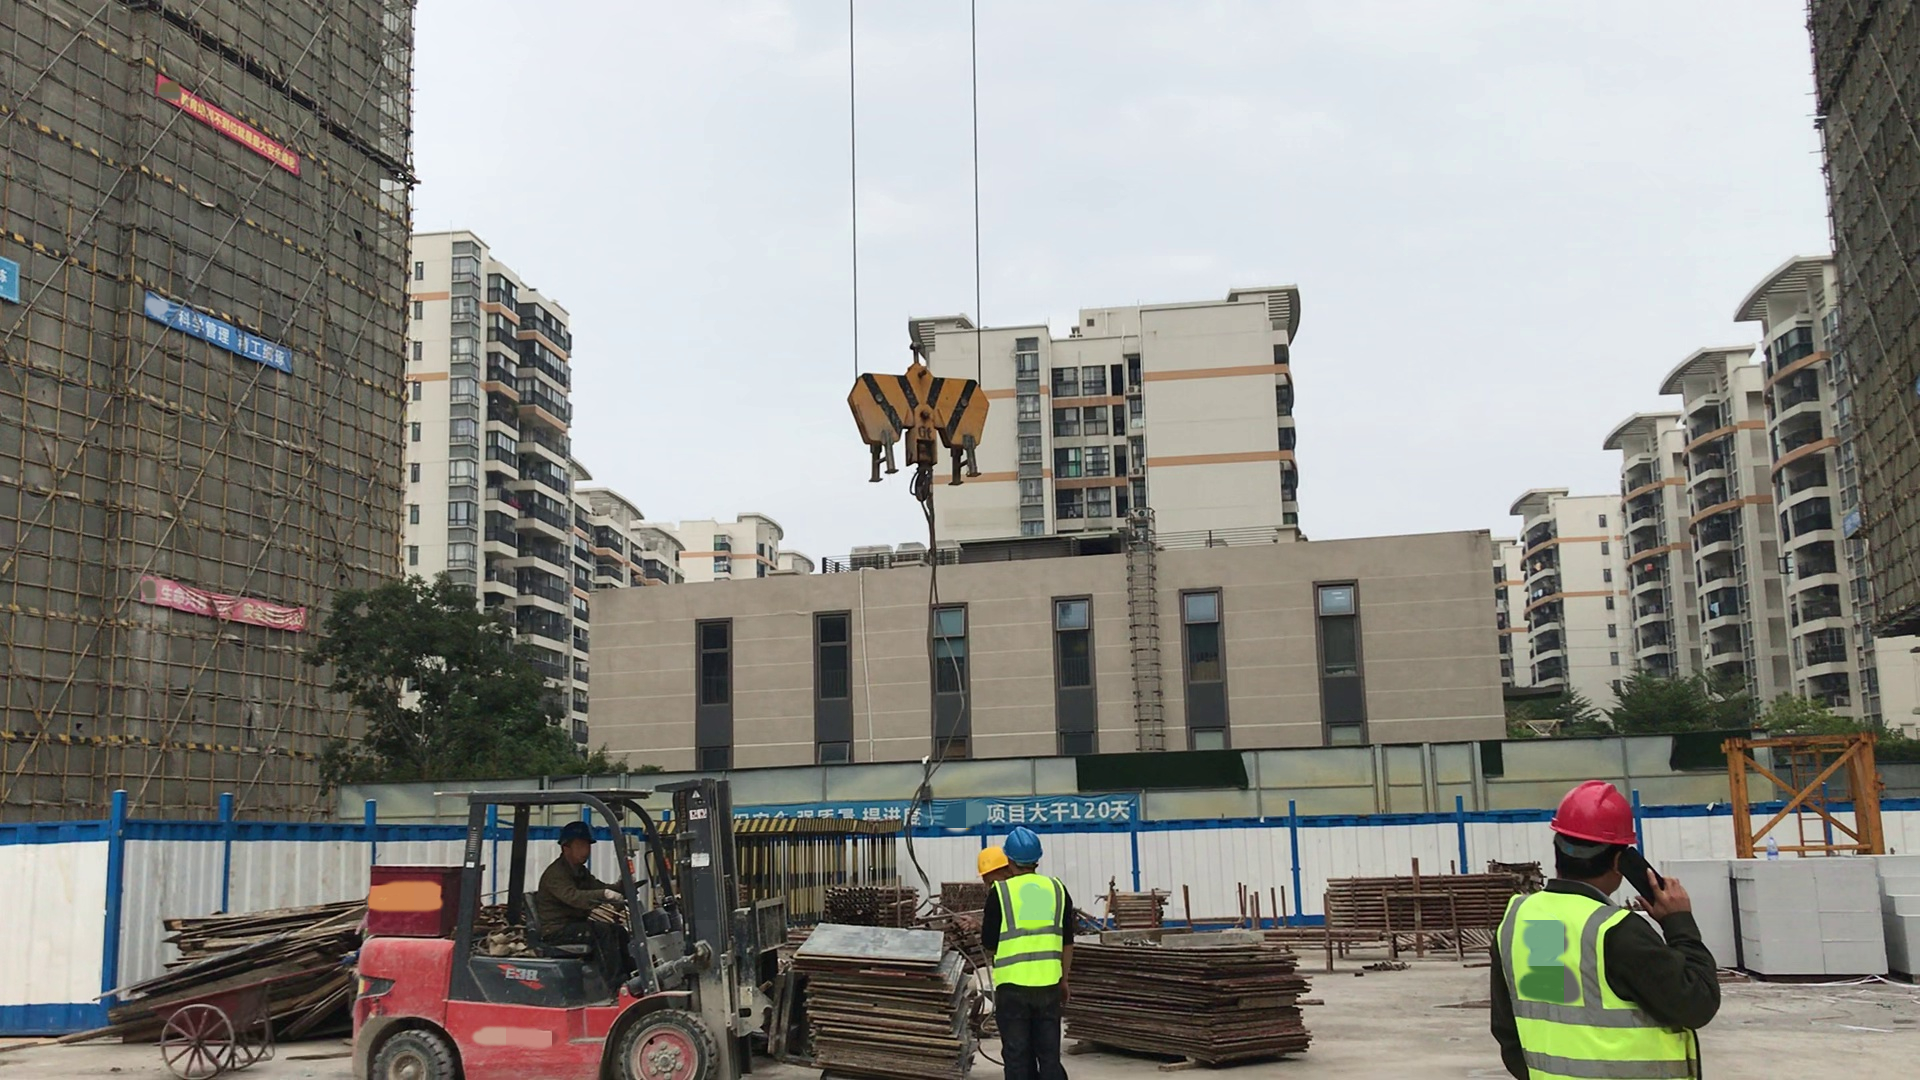board: (1075, 930, 1331, 1065), (798, 920, 983, 1080)
brick: (1742, 841, 1871, 992), (1881, 831, 1920, 990)
handcart: (59, 965, 282, 1080)
helmet: (1545, 778, 1647, 841), (1003, 829, 1046, 862), (554, 820, 600, 844), (968, 848, 1012, 872)
hook: (844, 341, 1013, 482)
person: (1455, 768, 1741, 1080), (982, 822, 1085, 1080), (501, 813, 648, 991)
scaffold: (1323, 879, 1511, 931), (824, 885, 912, 918)
slogan: (729, 790, 1141, 833), (161, 81, 297, 171), (149, 300, 290, 365), (144, 576, 301, 634)
vest: (1492, 893, 1725, 1080), (992, 879, 1064, 986)
